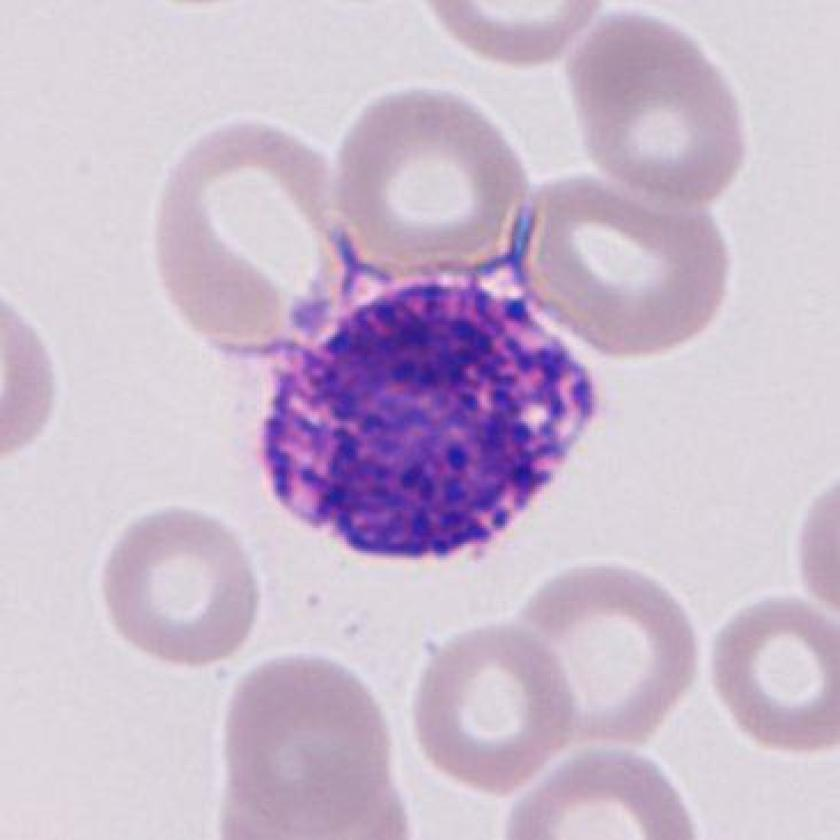basophil: (247, 268, 600, 566)
